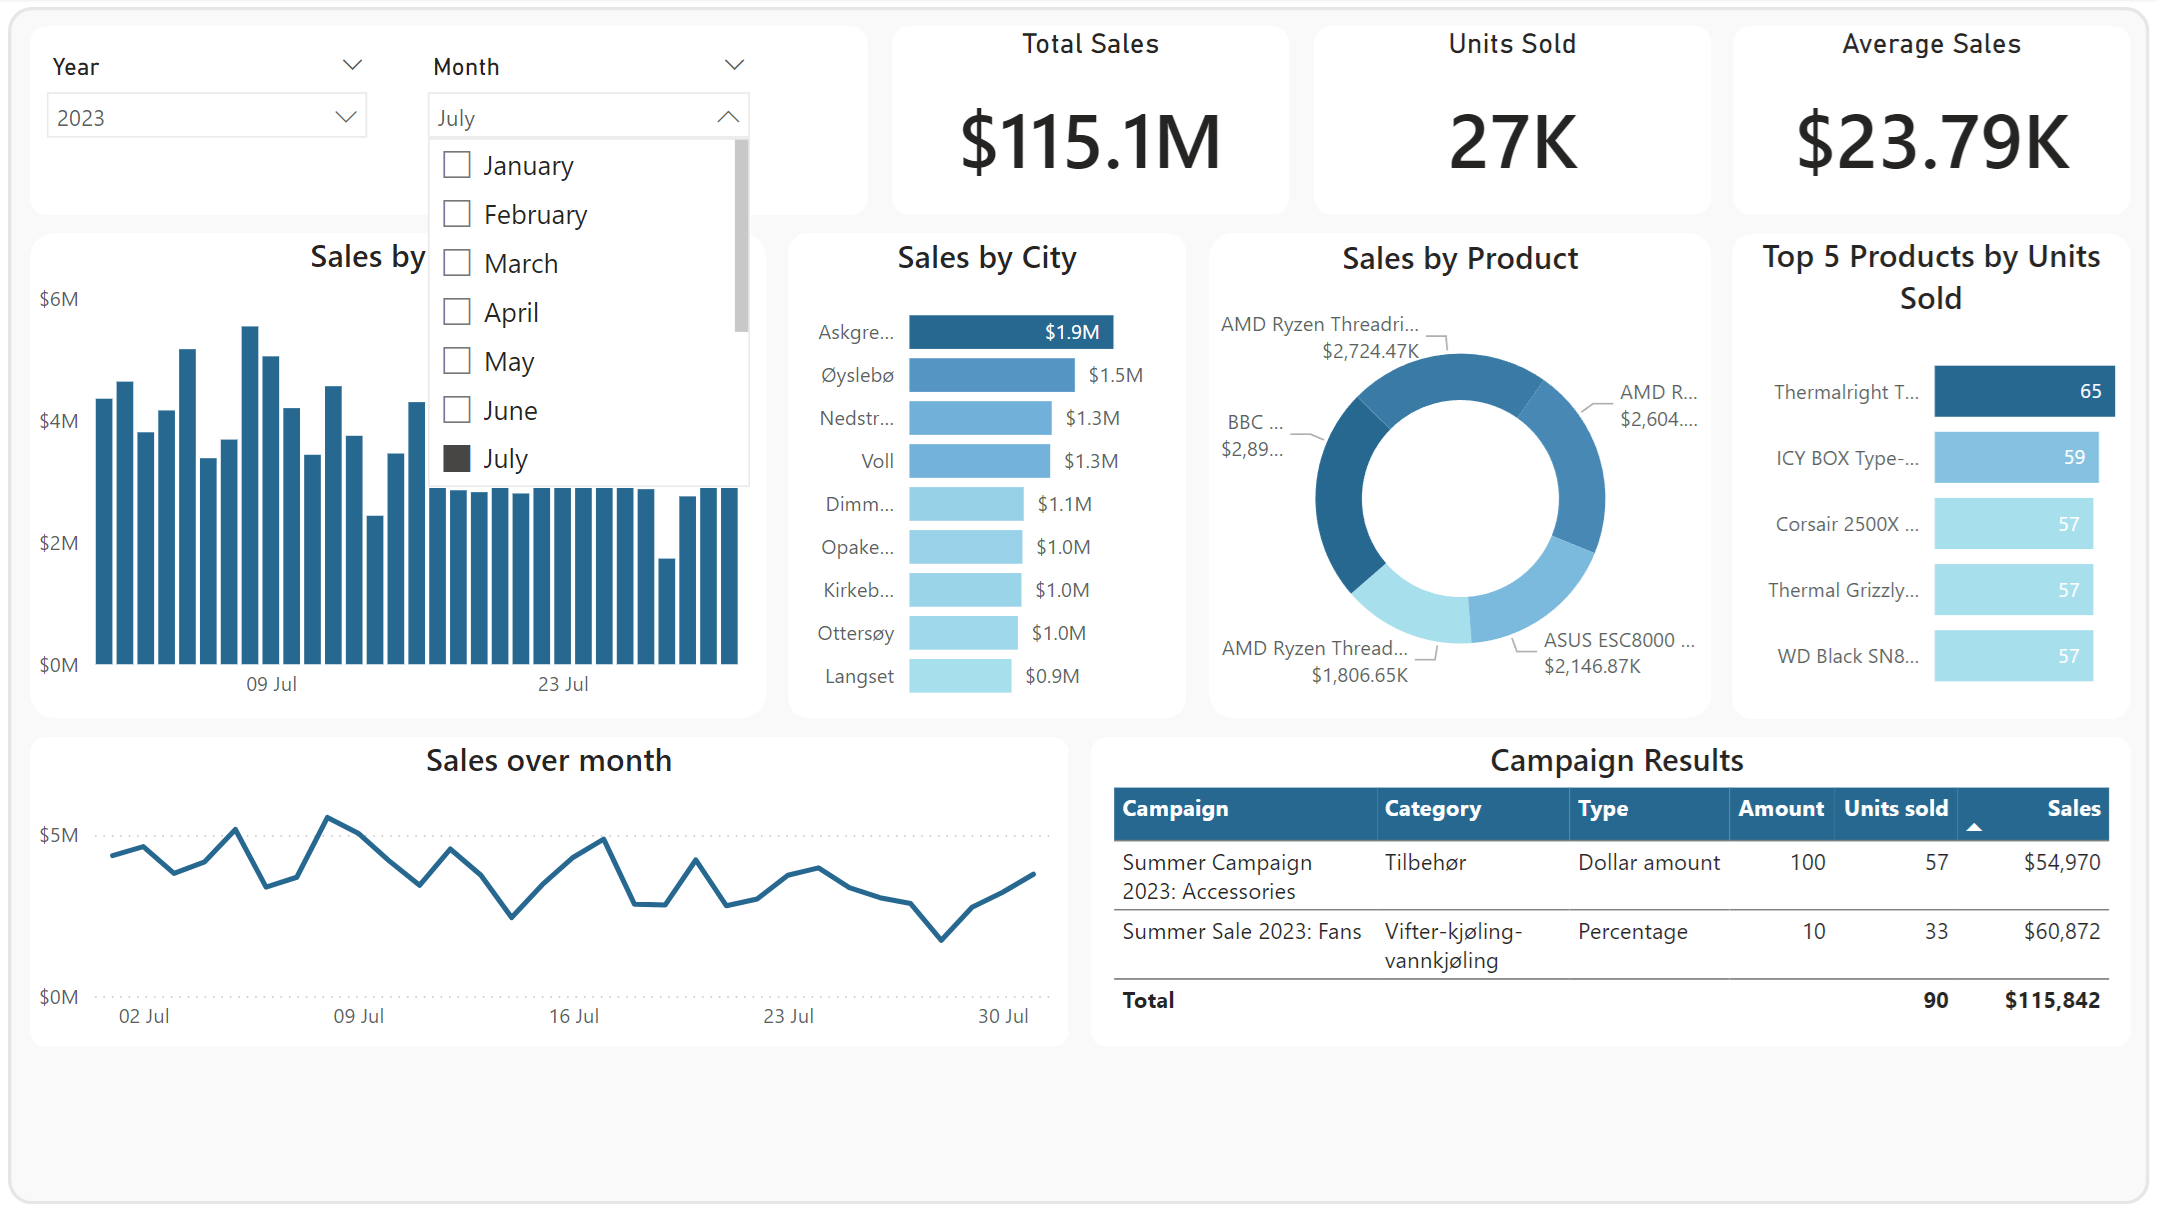

The dashboard page shown, as its layout file describes it:
{"tool":"powerbi","page":{"name":"Overview","canvas":[1280,720],"ordinal":0},"visuals":[{"type":"shape","box":[4.9,5.6,1269.9,710.1],"z":0},{"type":"shape","box":[1028,16.7,235.7,112],"z":500},{"type":"shape","box":[779.4,16.7,235.7,112],"z":750},{"type":"shape","box":[528.9,16.7,235.7,112],"z":875},{"type":"card","title":"Total Sales","fields":{"Values":["Sum(public fact_product_sale.extended_sales_amount)"]},"box":[528.9,16.7,235.7,112],"z":1000},{"type":"card","title":"Units Sold","fields":{"Values":["Sum(public fact_product_sale.quantity)"]},"box":[779.4,16.7,235.7,112],"z":2000},{"type":"card","title":"Average Sales","fields":{"Values":["Avg(public fact_product_sale.extended_sales_amount)"]},"box":[1028,16.7,235.7,112],"z":3000},{"type":"shape","box":[17.8,16.5,496.9,112.3],"z":3500},{"type":"slicer","fields":{"Values":["public dim_date.date.Variation.Date Hierarchy.Year"]},"box":[17.9,27.8,210.3,89.7],"z":4000},{"type":"slicer","fields":{"Values":["public dim_date.date.Variation.Date Hierarchy.Month"]},"box":[243.7,27.8,210.9,89.7],"z":5000},{"type":"shape","box":[467.6,139.2,236.3,287.6],"z":6000},{"type":"clusteredBarChart","title":"Sales by City","fields":{"Category":["public dim_location.city_name"],"Y":["Sum(public fact_product_sale.extended_sales_amount)"]},"box":[467.6,139.8,236.3,287.6],"z":7000},{"type":"shape","box":[1027.4,139.8,236.3,287.6],"z":8000},{"type":"shape","box":[716.9,139.2,298.1,287.6],"z":9000},{"type":"donutChart","title":"Sales by Product","fields":{"Category":["public dim_product.product_name"],"Y":["Sum(public fact_product_sale.extended_sales_amount)"]},"box":[716.9,140.4,298.1,287.6],"z":10000},{"type":"shape","box":[17.9,139.2,436.7,287.6],"z":11000},{"type":"clusteredBarChart","title":"Top 5 Products by Units Sold","fields":{"Category":["public dim_product.product_name"],"Y":["Sum(public fact_product_sale.quantity)"]},"box":[1031.1,139.2,228.2,287.6],"z":12000},{"type":"clusteredColumnChart","title":"Sales by day","fields":{"Y":["Sum(public fact_product_sale.extended_sales_amount)"],"Category":["public dim_date.date"]},"box":[17.9,139.2,436.7,285.8],"z":13000},{"type":"shape","box":[17.9,438.6,616.1,183.7],"z":14000},{"type":"shape","box":[647,438.6,616.7,183.7],"z":15000},{"type":"lineChart","title":"Sales over month","fields":{"Y":["Sum(public fact_product_sale.extended_sales_amount)"],"Category":["public dim_date.date"]},"box":[17.9,438.6,616.1,183.7],"z":16000},{"type":"tableEx","title":"Campaign Results","fields":{"Values":["public dim_discount.discount_name","public dim_product.product_category","public dim_discount.discount_type","public dim_discount.discount_amount","Sum(public fact_product_sale.quantity)","Sum(public fact_product_sale.extended_sales_amount)"]},"box":[655.1,438.6,608.7,183.7],"z":17000}]}

Visuals, with their boxes in screenshot pixels (x1, y1, x2, y2), scaled from the page's 1280x720 canvas onto the 2157x1212 screenshot:
shape: BBox(8, 9, 2148, 1205)
shape: BBox(1732, 28, 2130, 217)
shape: BBox(1313, 28, 1711, 217)
shape: BBox(891, 28, 1288, 217)
"Total Sales" card: BBox(891, 28, 1288, 217)
"Units Sold" card: BBox(1313, 28, 1711, 217)
"Average Sales" card: BBox(1732, 28, 2130, 217)
shape: BBox(30, 28, 867, 217)
slicer - public dim_date.date.Variation.Date Hierarchy.Year: BBox(30, 47, 385, 198)
slicer - public dim_date.date.Variation.Date Hierarchy.Month: BBox(411, 47, 766, 198)
shape: BBox(788, 234, 1186, 718)
"Sales by City" clusteredBarChart: BBox(788, 235, 1186, 719)
shape: BBox(1731, 235, 2130, 719)
shape: BBox(1208, 234, 1710, 718)
"Sales by Product" donutChart: BBox(1208, 236, 1710, 720)
shape: BBox(30, 234, 766, 718)
"Top 5 Products by Units Sold" clusteredBarChart: BBox(1738, 234, 2122, 718)
"Sales by day" clusteredColumnChart: BBox(30, 234, 766, 715)
shape: BBox(30, 738, 1068, 1048)
shape: BBox(1090, 738, 2130, 1048)
"Sales over month" lineChart: BBox(30, 738, 1068, 1048)
"Campaign Results" tableEx: BBox(1104, 738, 2130, 1048)
